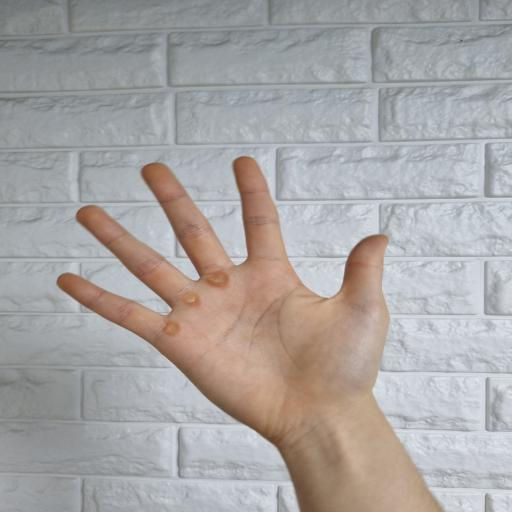Paper: (56, 157, 390, 444)
